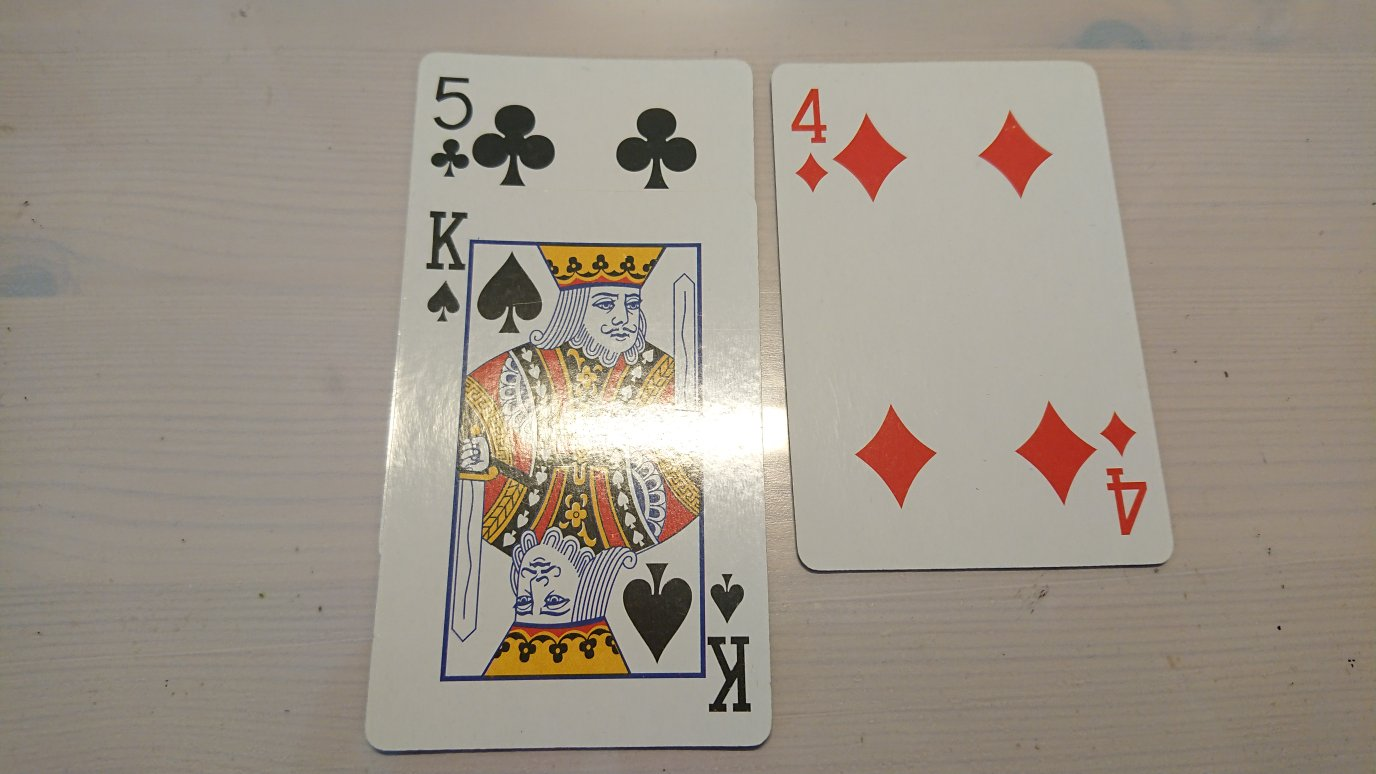4D: (787, 83, 831, 196)
5C: (425, 73, 475, 183)
KS: (420, 203, 471, 327)
